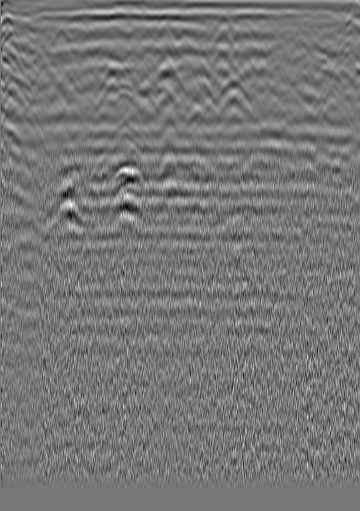가스: (102, 190, 145, 223)
상수: (18, 13, 38, 33)
오수: (306, 40, 326, 60)
우수: (156, 58, 176, 78)
